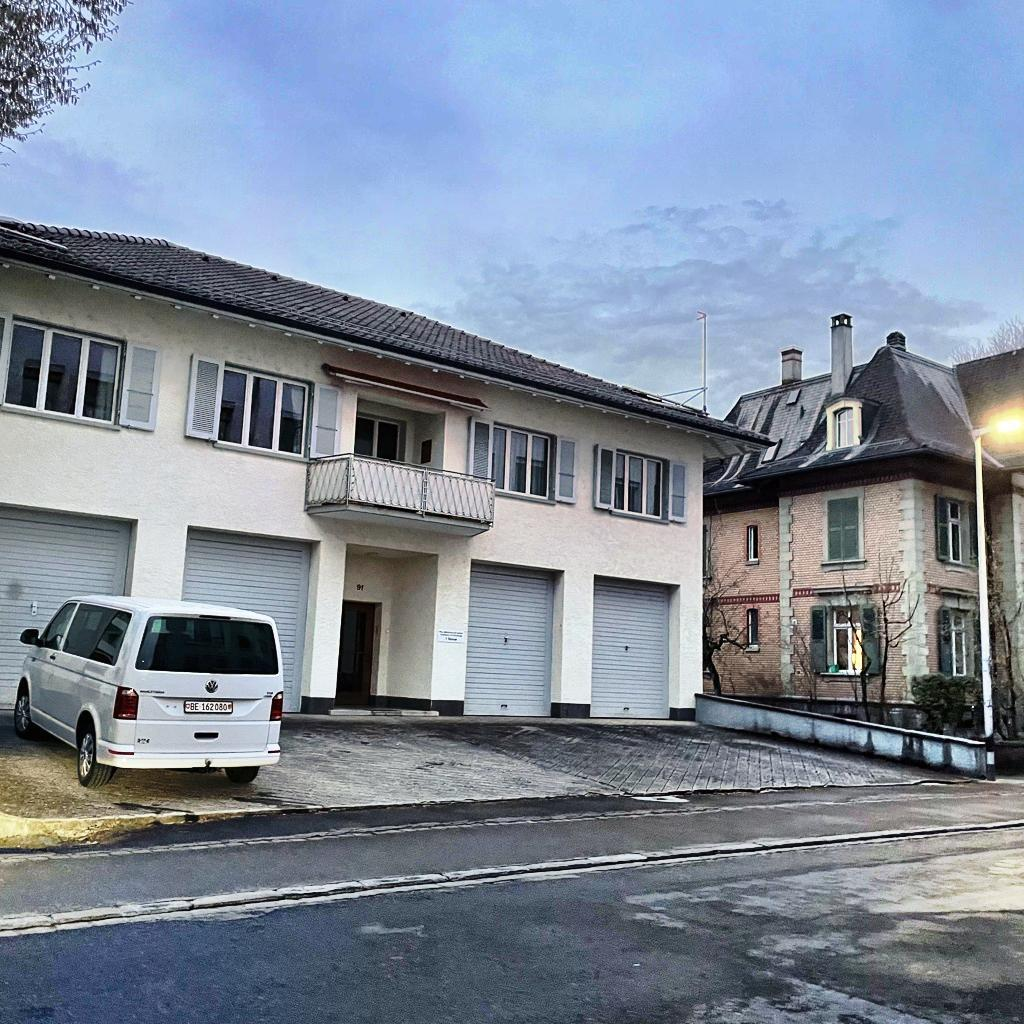balcony-fence: (304, 454, 496, 528)
car: (13, 594, 284, 790)
facade: (0, 263, 706, 721), (713, 477, 979, 700), (984, 472, 1024, 689)
fence: (696, 694, 988, 777), (996, 741, 1024, 778)
street: (0, 710, 1024, 1024)
traffic-infrastructure: (971, 405, 1024, 779)
vegetation: (827, 570, 922, 725), (910, 610, 986, 740), (703, 560, 750, 696), (987, 591, 1022, 739)
window: (0, 310, 166, 435), (183, 351, 344, 460), (466, 415, 578, 507), (591, 440, 688, 530), (808, 603, 881, 677), (822, 486, 865, 562), (936, 608, 968, 678), (354, 414, 401, 461), (934, 492, 964, 564), (834, 407, 854, 448), (746, 608, 760, 653), (745, 525, 760, 566), (703, 515, 712, 578), (420, 438, 432, 465), (763, 444, 778, 461), (788, 390, 799, 401)
